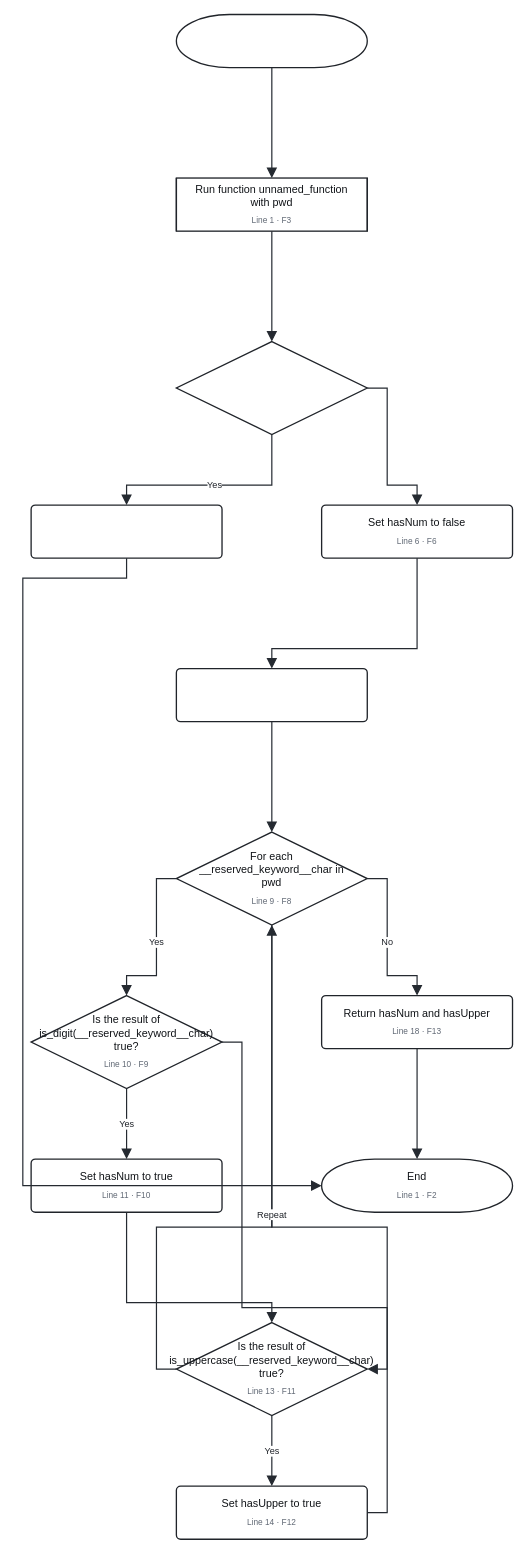
Image size: 528x1555. Some labels were removed from this diagram. Here are the shapes that lost their labels. From the top down, the centre of each, then its label:
At pixel 271 40: "Start Line 1 · F1".
At pixel 271 387: "The length of pwd is less than 8? Line 2 · F4".
At pixel 126 531: "Return false Line 3 · F5".
At pixel 271 694: "Set hasUpper to false Line 7 · F7".
